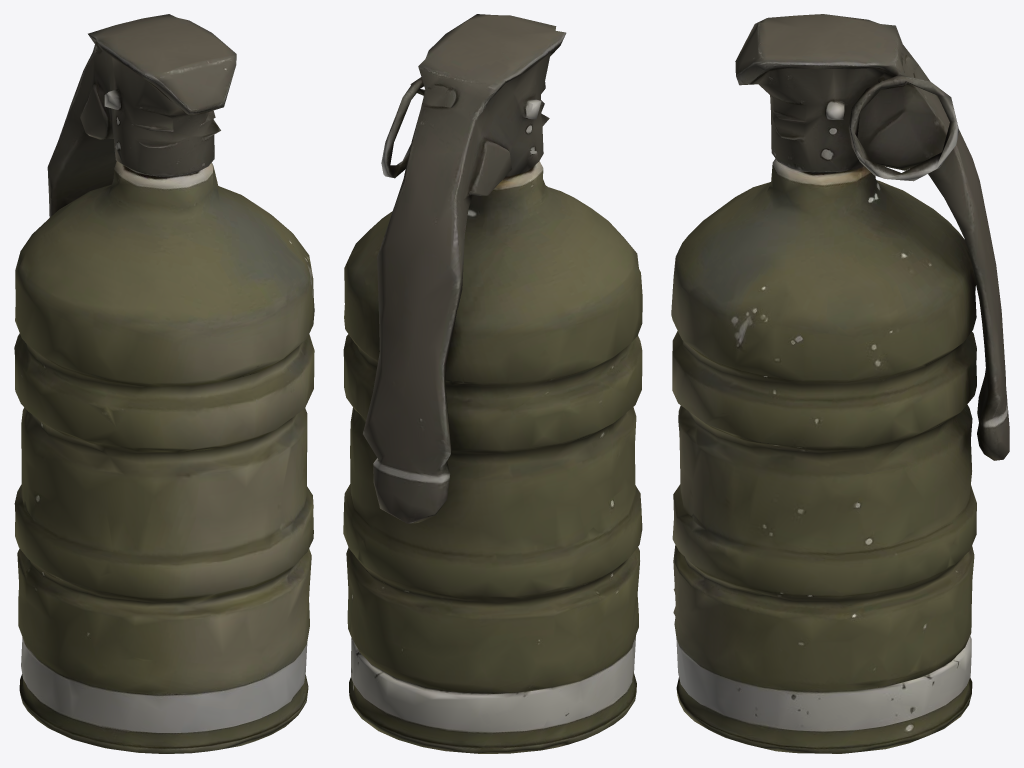
The model's file is smoke_grenade.d1bef3d360.glb.
3 views of the same model, side by side, from view 1: azimuth 30°, elevation 25°; view 2: azimuth 150°, elevation 25°; view 3: azimuth 270°, elevation 25° (orthographic).
Visible parts, largest first — view 1: smoke_grenade; view 2: smoke_grenade; view 3: smoke_grenade.
Boxes of the visible parts, <box> form: smoke_grenade: <box>14,14,314,753</box>; smoke_grenade: <box>343,14,642,753</box>; smoke_grenade: <box>671,14,1009,753</box>.
Size of the model in its own units: 0.0618 by 0.15 by 0.0696.
Materials: 1 (1 with a texture image).
